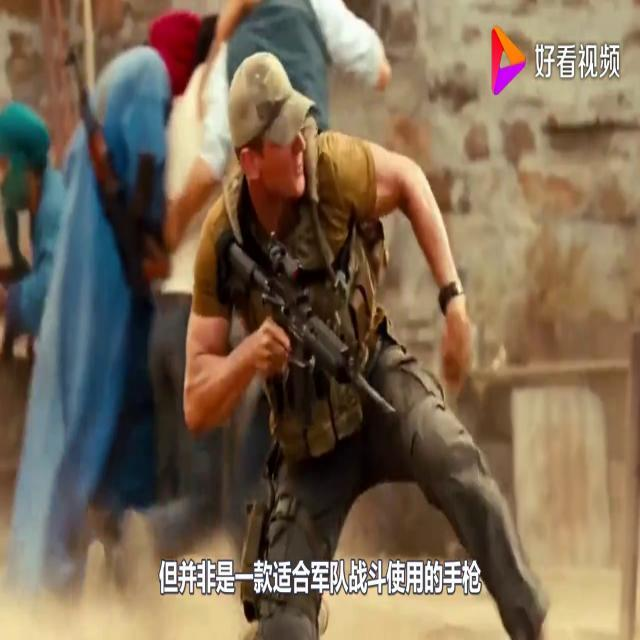gun-knife-thesis - v11 Yolov5 augmented: (205, 225, 404, 468)
